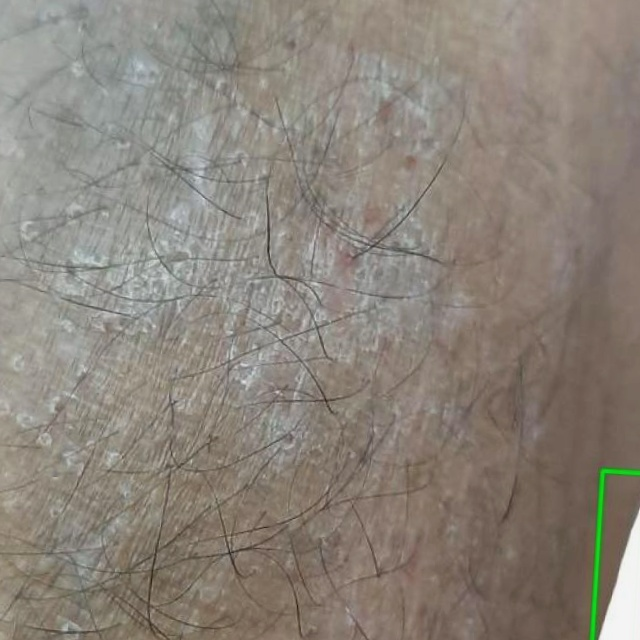Contact Dermatitis: (592, 470, 639, 639)
